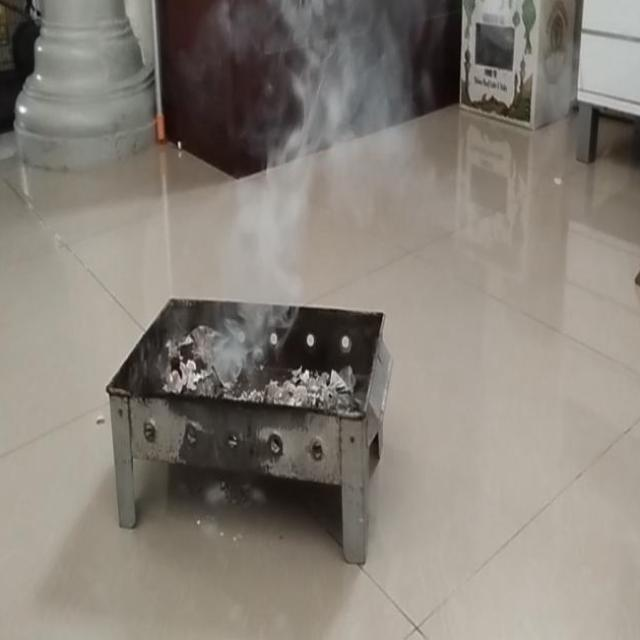fire: (214, 150, 308, 384), (296, 0, 404, 171)
